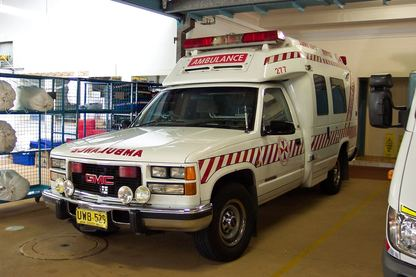ambulance: (41, 29, 358, 260)
